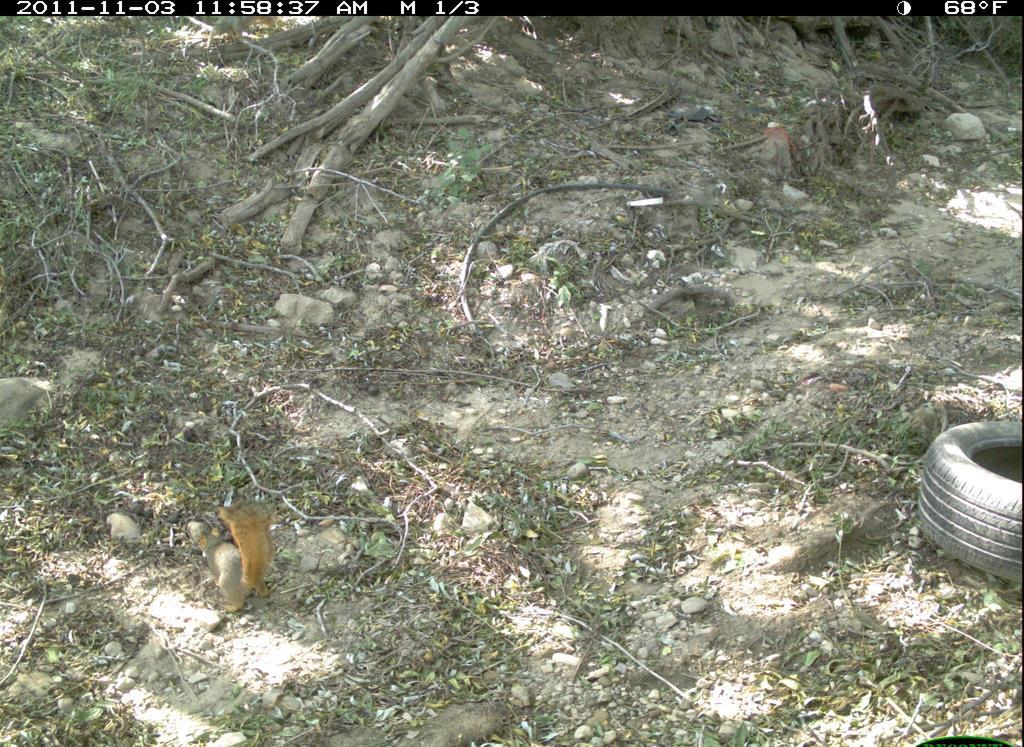squirrel: (184, 497, 297, 646)
